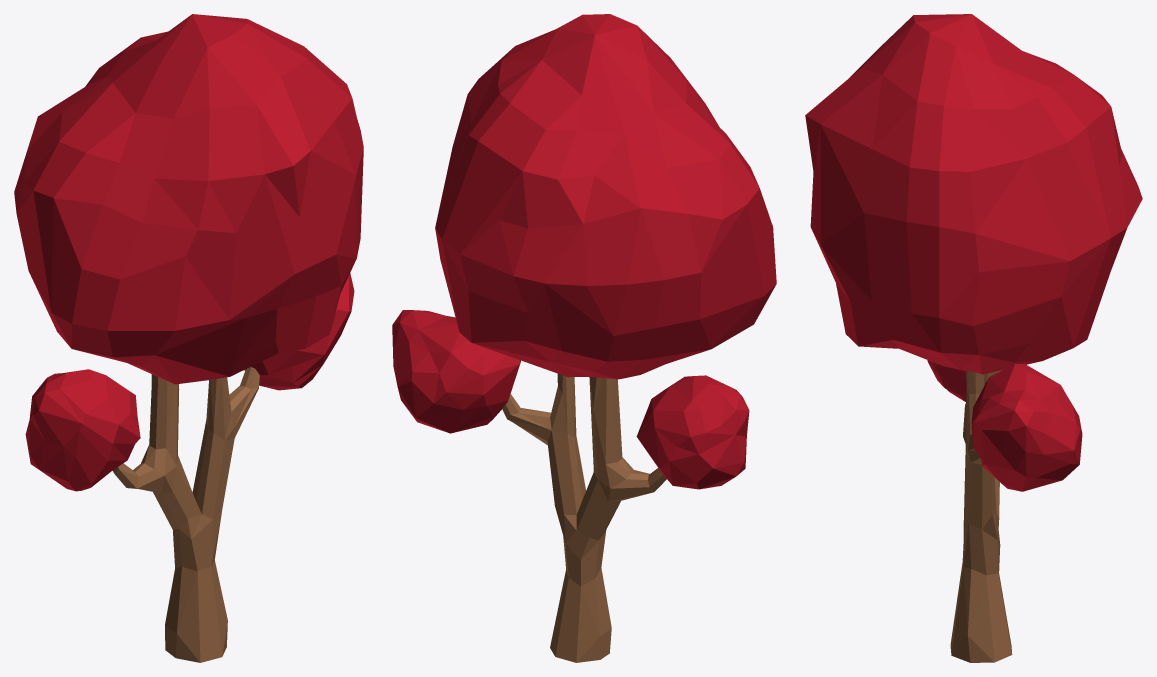
The model's file is Tree_4.fbx.
The picture shows the model from 3 angles, left to right: view 1: azimuth 30°, elevation 25°; view 2: azimuth 150°, elevation 25°; view 3: azimuth 270°, elevation 25°; orthographic projection. The views are drawn at different scales.
Parts seen in each view (by area): view 1: Tree_4_LOD0; view 2: Tree_4_LOD0; view 3: Tree_4_LOD0.
Part boxes in pixels (left/top/right/bottom): Tree_4_LOD0: left=14, top=14, right=363, bottom=662; Tree_4_LOD0: left=392, top=14, right=776, bottom=662; Tree_4_LOD0: left=805, top=14, right=1142, bottom=662.
Size of what is drawn, in the model's own units: 104 by 186 by 89.69.
